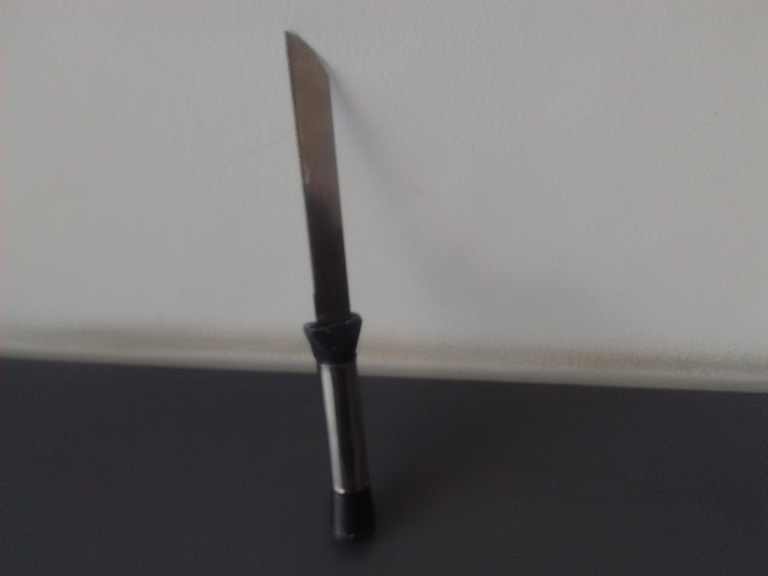knife: (281, 29, 380, 542)
